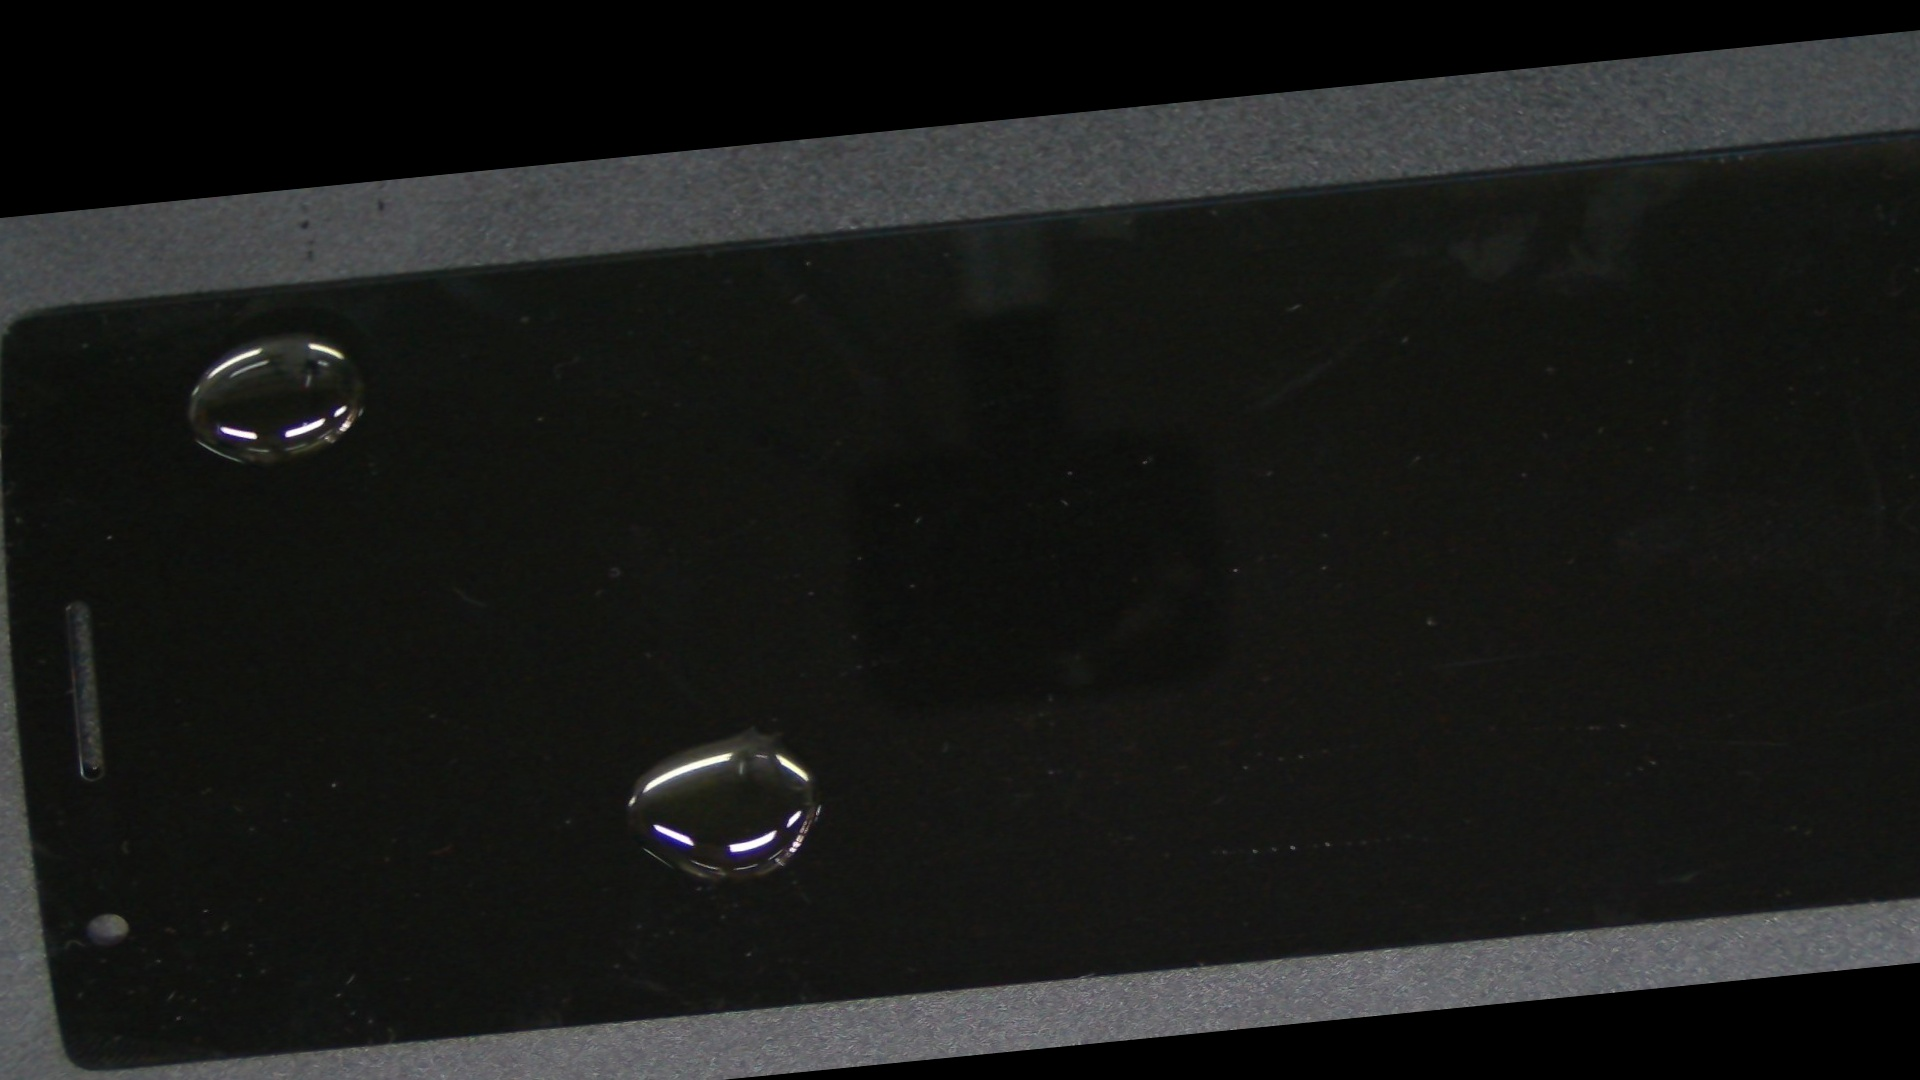oil: (319, 400, 1175, 1059), (89, 243, 486, 423)
